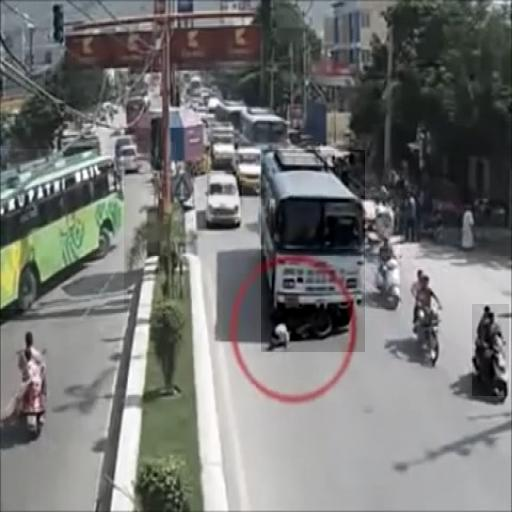小汽车: (1, 149, 124, 309), (207, 172, 242, 229)
小汽车撞自行车: (261, 150, 365, 352)
自行车: (472, 304, 509, 396), (412, 270, 440, 366), (379, 236, 400, 308)
